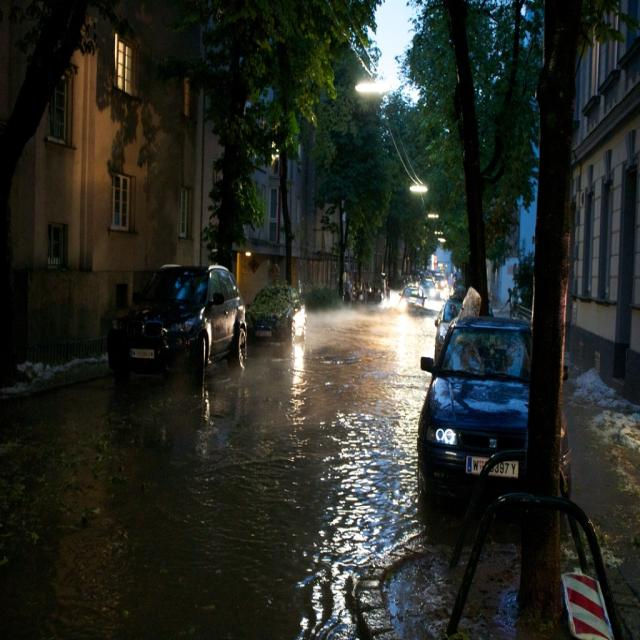car: (107, 262, 245, 373)
